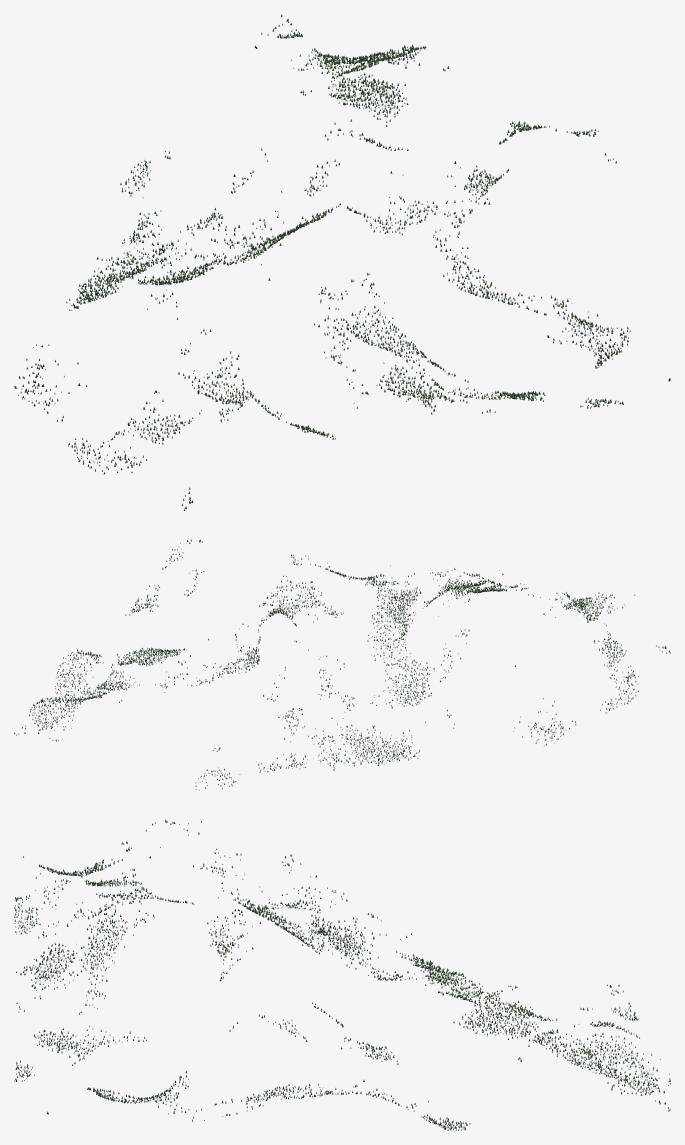
3 renders of one model, top to bottom at view 1: azimuth 30°, elevation 25°; view 2: azimuth 150°, elevation 25°; view 3: azimuth 270°, elevation 25°, orthographic. The views are drawn at different scales.
Visible parts, largest first — view 1: Forest 0.8, Forest 0.9, Forest 0.4, Forest 0.10, Forest 0.2, Forest 0.7, Forest 0.12, Forest 0.11, Forest 0.1, Forest 0.3, Forest 0.6; view 2: Forest 0.9, Forest 0.2, Forest 0.7, Forest 0.8, Forest 0.10, Forest 0.4, Forest 0.3, Forest 0.11, Forest 0.1, Forest 0.12, Forest 0.6; view 3: Forest 0.9, Forest 0.8, Forest 0.10, Forest 0.4, Forest 0.2, Forest 0.7, Forest 0.11, Forest 0.3, Forest 0.12, Forest 0.1, Forest 0.6.
Part boxes in pixels (x1,y1,x2,y2): Forest 0.8: [351, 272, 581, 414]; Forest 0.9: [254, 14, 448, 95]; Forest 0.4: [158, 264, 399, 439]; Forest 0.10: [329, 86, 549, 259]; Forest 0.2: [66, 251, 204, 310]; Forest 0.7: [235, 138, 455, 263]; Forest 0.12: [547, 309, 670, 408]; Forest 0.11: [443, 128, 616, 324]; Forest 0.1: [74, 372, 228, 510]; Forest 0.3: [83, 221, 284, 309]; Forest 0.6: [134, 122, 381, 262]; Forest 0.9: [14, 649, 185, 741]; Forest 0.2: [318, 677, 454, 770]; Forest 0.7: [271, 555, 414, 664]; Forest 0.8: [377, 568, 503, 641]; Forest 0.10: [97, 585, 221, 692]; Forest 0.4: [463, 570, 614, 620]; Forest 0.3: [385, 575, 555, 689]; Forest 0.11: [149, 539, 310, 674]; Forest 0.1: [587, 594, 670, 709]; Forest 0.12: [261, 578, 393, 626]; Forest 0.6: [259, 593, 354, 759]; Forest 0.9: [506, 984, 670, 1111]; Forest 0.8: [16, 900, 154, 1065]; Forest 0.10: [342, 986, 506, 1130]; Forest 0.4: [14, 819, 175, 956]; Forest 0.2: [342, 892, 502, 999]; Forest 0.7: [207, 882, 341, 960]; Forest 0.11: [179, 947, 342, 1121]; Forest 0.3: [179, 821, 342, 953]; Forest 0.12: [14, 1062, 178, 1114]; Forest 0.1: [15, 856, 178, 902]; Forest 0.6: [343, 924, 506, 1009].
Bounding box in the file's own units: 4382 × 1115 × 5009.
